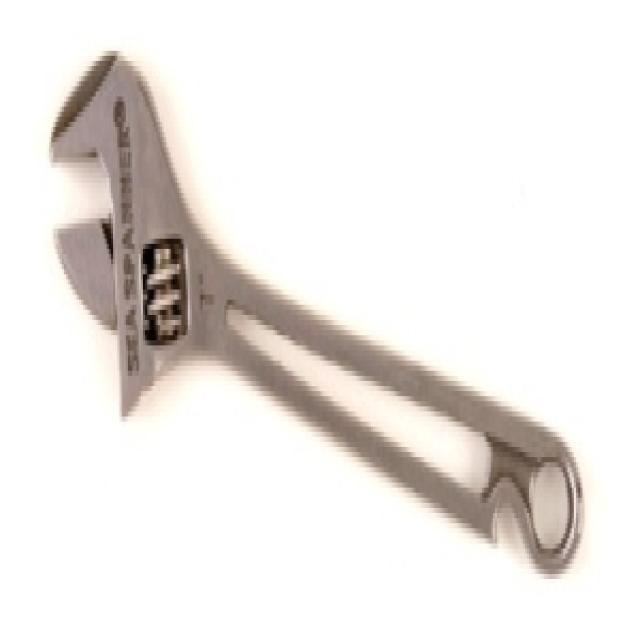wrench: (24, 34, 640, 634)
